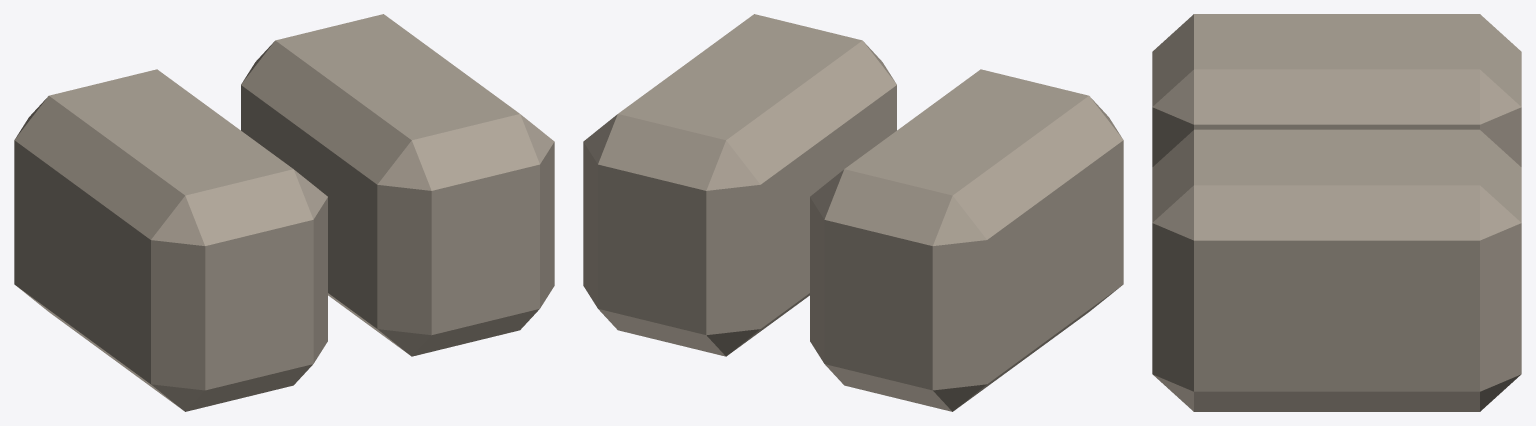
Rendered from SM_NPC_Feet_00_Boots.glb.
3 renders of one model, left to right at view 1: azimuth 30°, elevation 25°; view 2: azimuth 150°, elevation 25°; view 3: azimuth 270°, elevation 25°, orthographic. The views are drawn at different scales.
Parts seen in each view (by area): view 1: SM_NPC_Feet_00_Boots; view 2: SM_NPC_Feet_00_Boots; view 3: SM_NPC_Feet_00_Boots.
Boxes of the visible parts, x1=… form: SM_NPC_Feet_00_Boots: x1=14, y1=14, x2=554, y2=411; SM_NPC_Feet_00_Boots: x1=583, y1=14, x2=1123, y2=411; SM_NPC_Feet_00_Boots: x1=1152, y1=14, x2=1521, y2=411.
Size of the model in its own units: 0.41 by 0.21 by 0.31.
